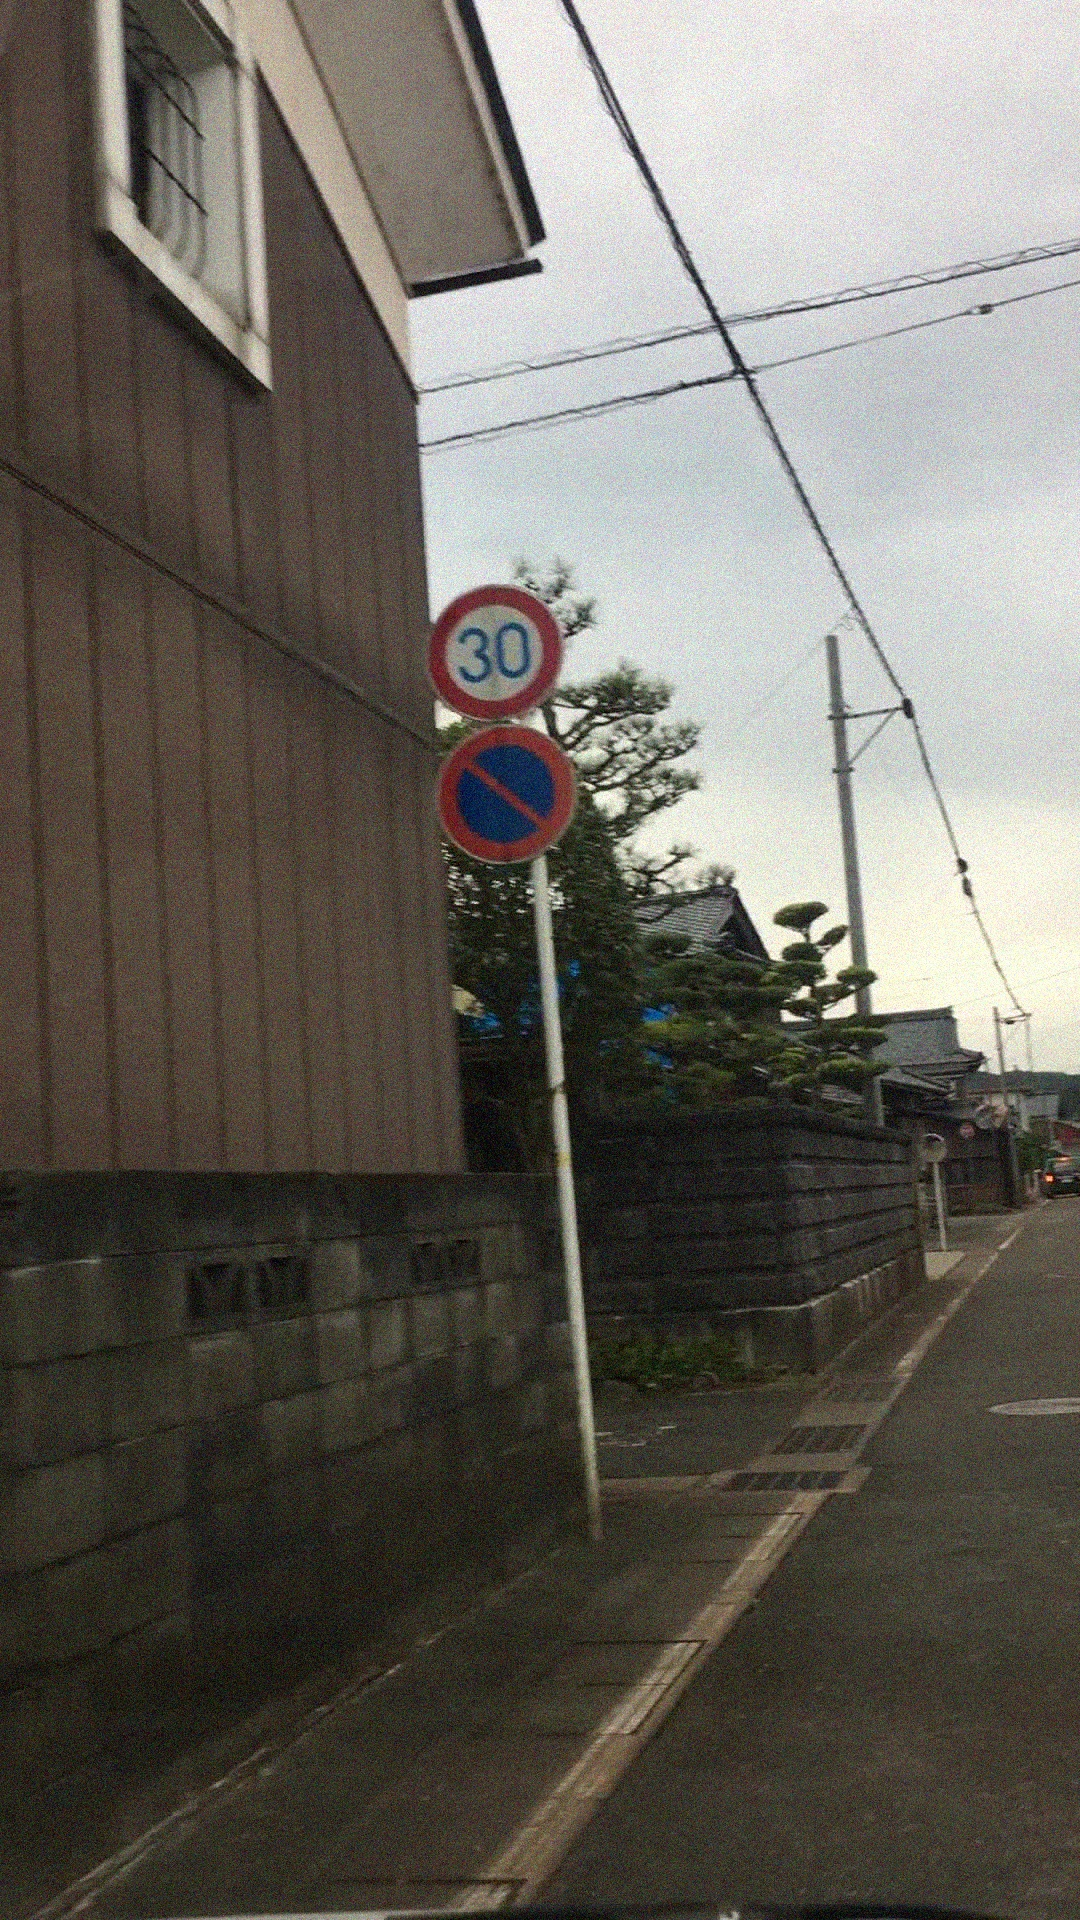Prohibition_sign: (442, 731, 570, 855)
Speed_sign: (414, 574, 584, 728)
